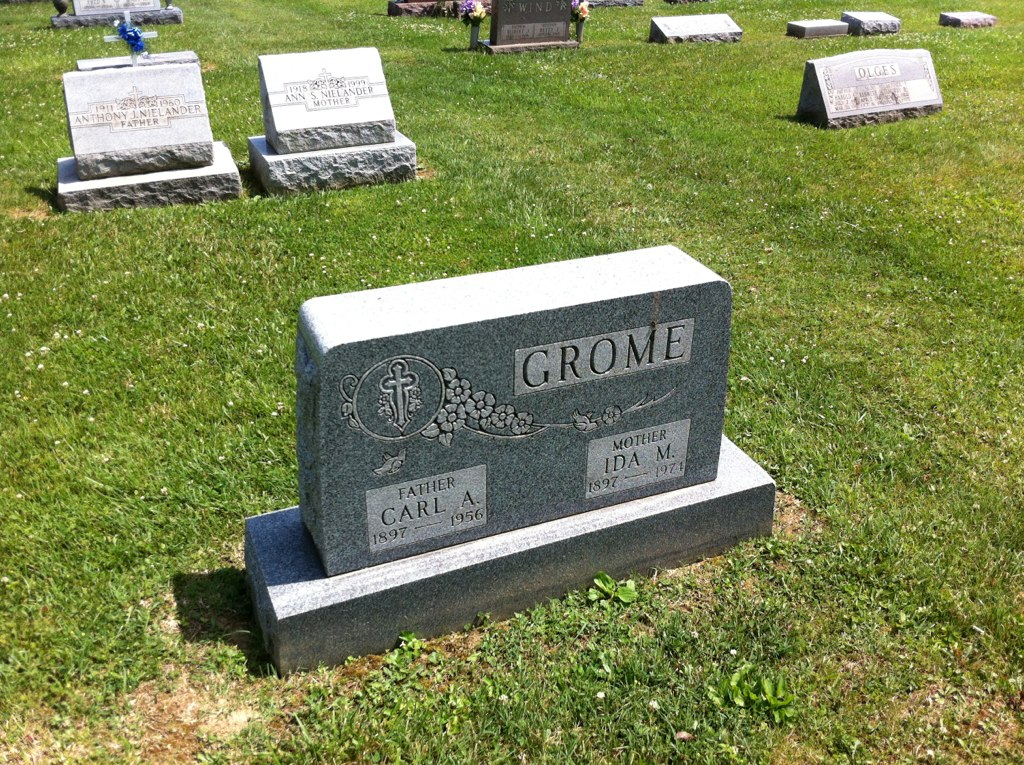upright: (233, 241, 777, 673)
